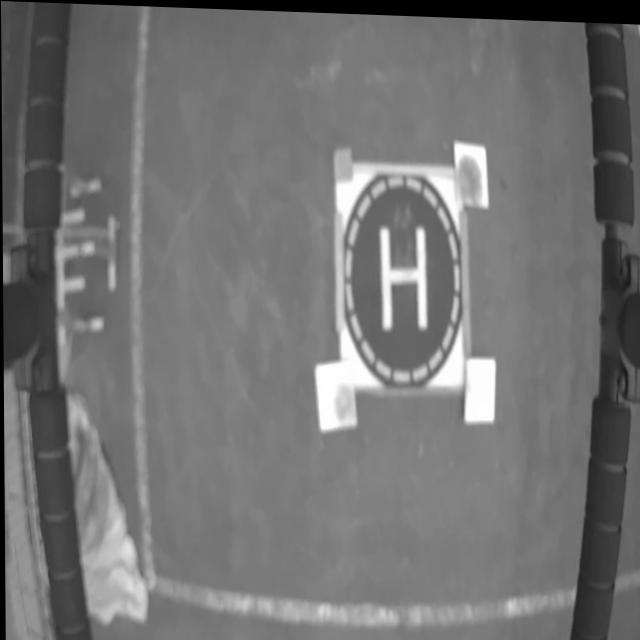Helipad: (377, 223, 427, 328)
